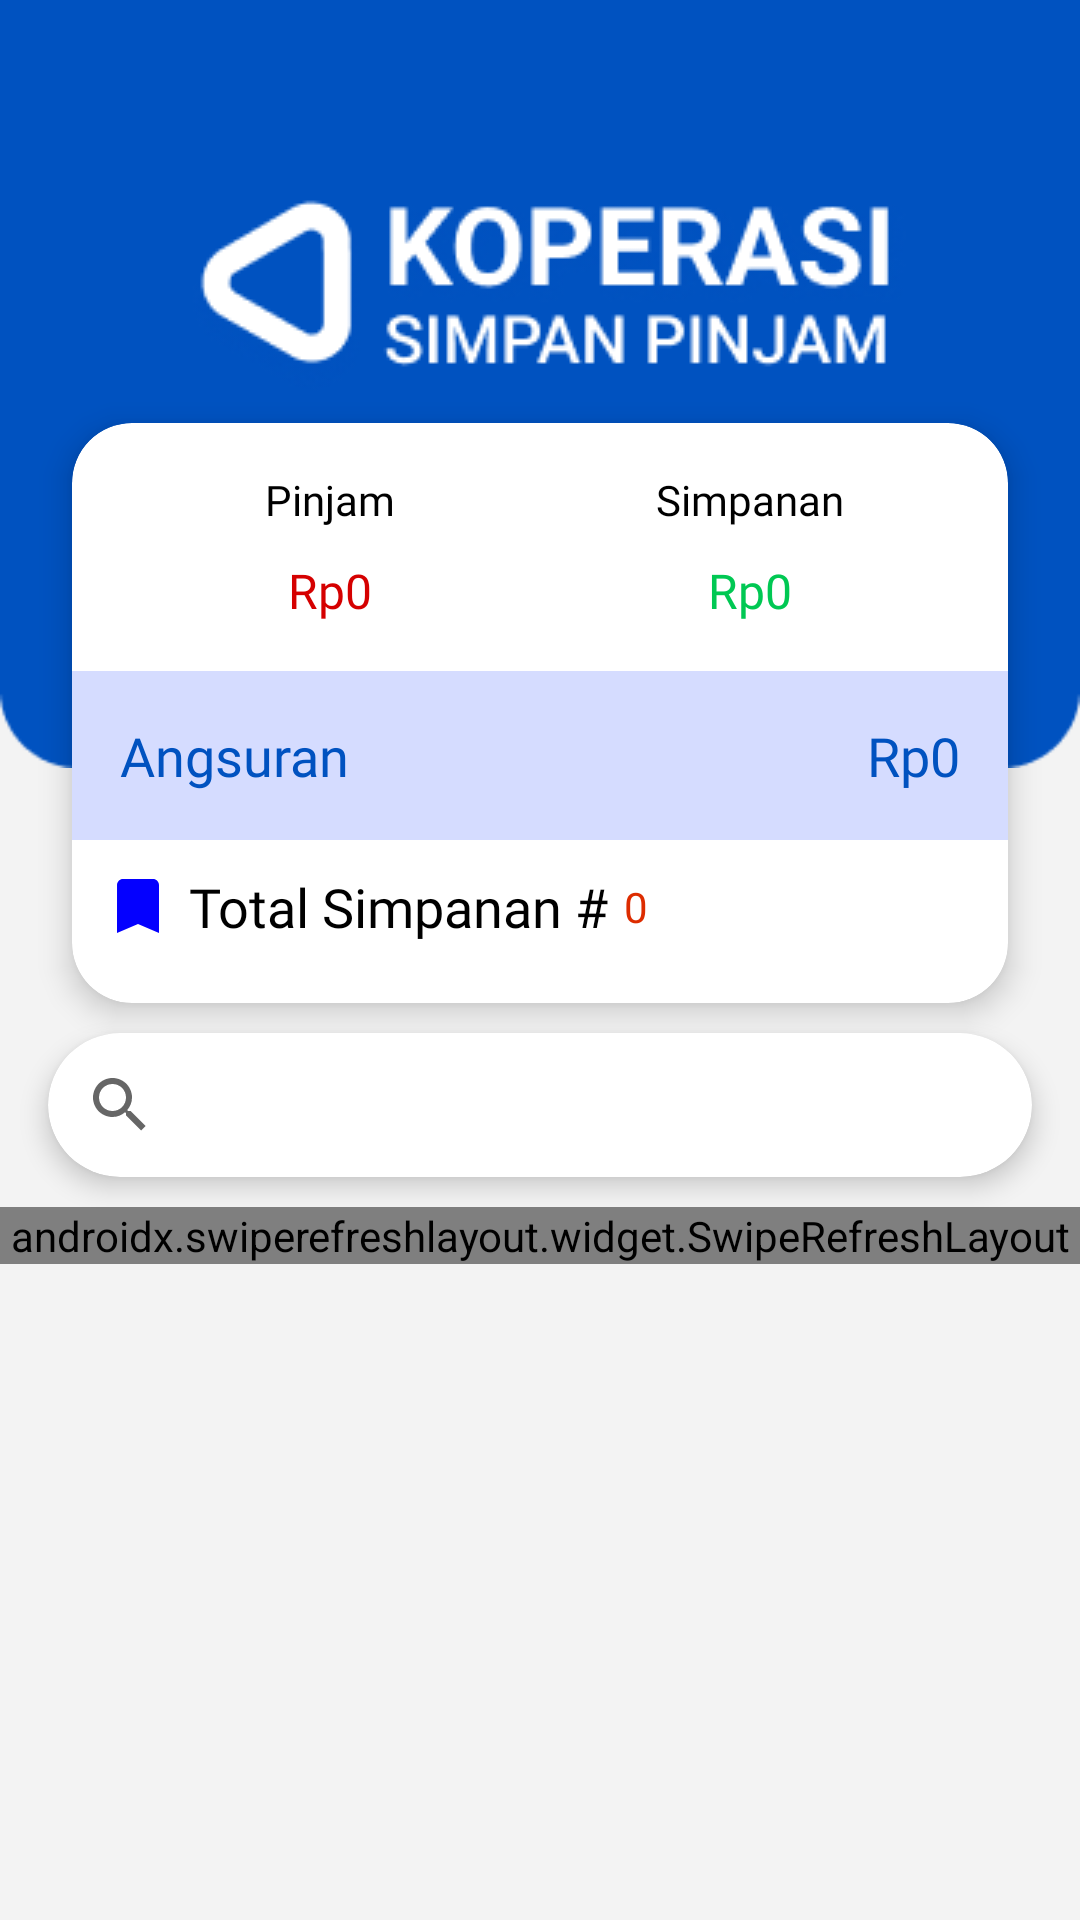

Named icons in this screenshot (1080×1920) and their centers, point (x, y):
bookmark: point (138, 906)
